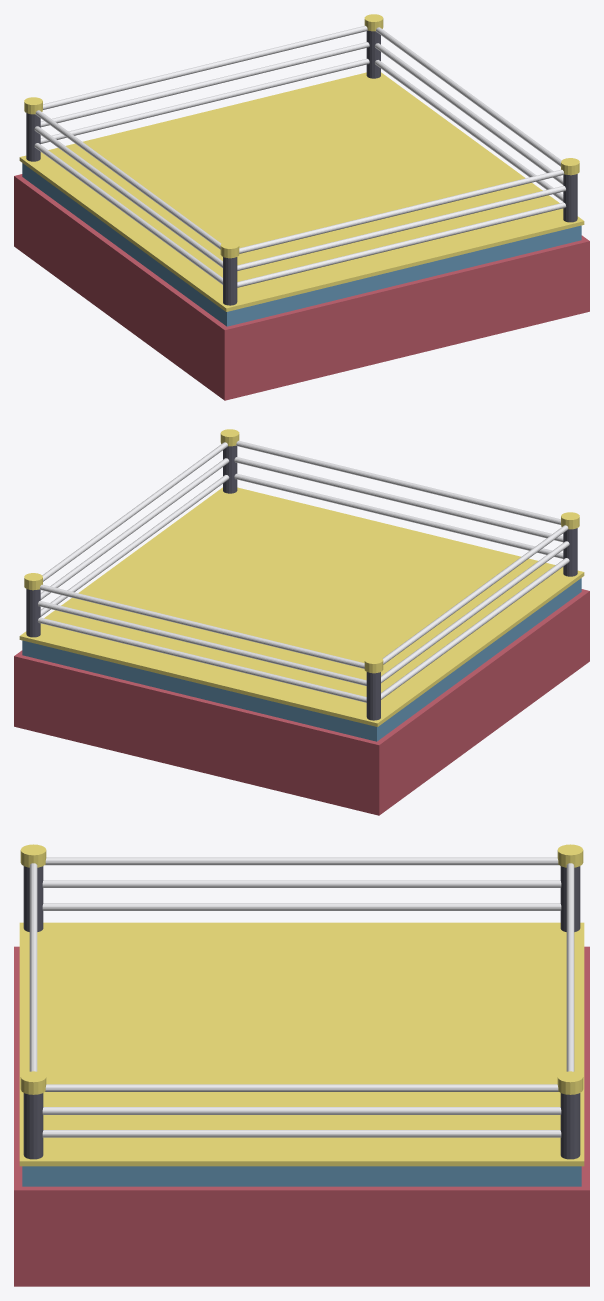
Rendered from ring.glb.
3 views of the same model, one above another, from view 1: azimuth 30°, elevation 25°; view 2: azimuth 150°, elevation 25°; view 3: azimuth 270°, elevation 25° (orthographic). The views are drawn at different scales.
Parts seen in each view (by area): view 1: Ring, Canvas; view 2: Ring, Canvas; view 3: Ring, Canvas.
Part boxes in pixels (<box>): Ring: <box>14,14,589,400</box>; Canvas: <box>22,163,581,326</box>; Ring: <box>14,429,589,815</box>; Canvas: <box>22,578,581,741</box>; Ring: <box>14,844,589,1286</box>; Canvas: <box>22,1166,581,1186</box>.
Bounding box in the file's own units: 2.06 × 0.795 × 2.06.
